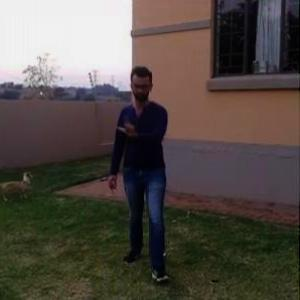land_hand: (113, 106, 146, 144)
